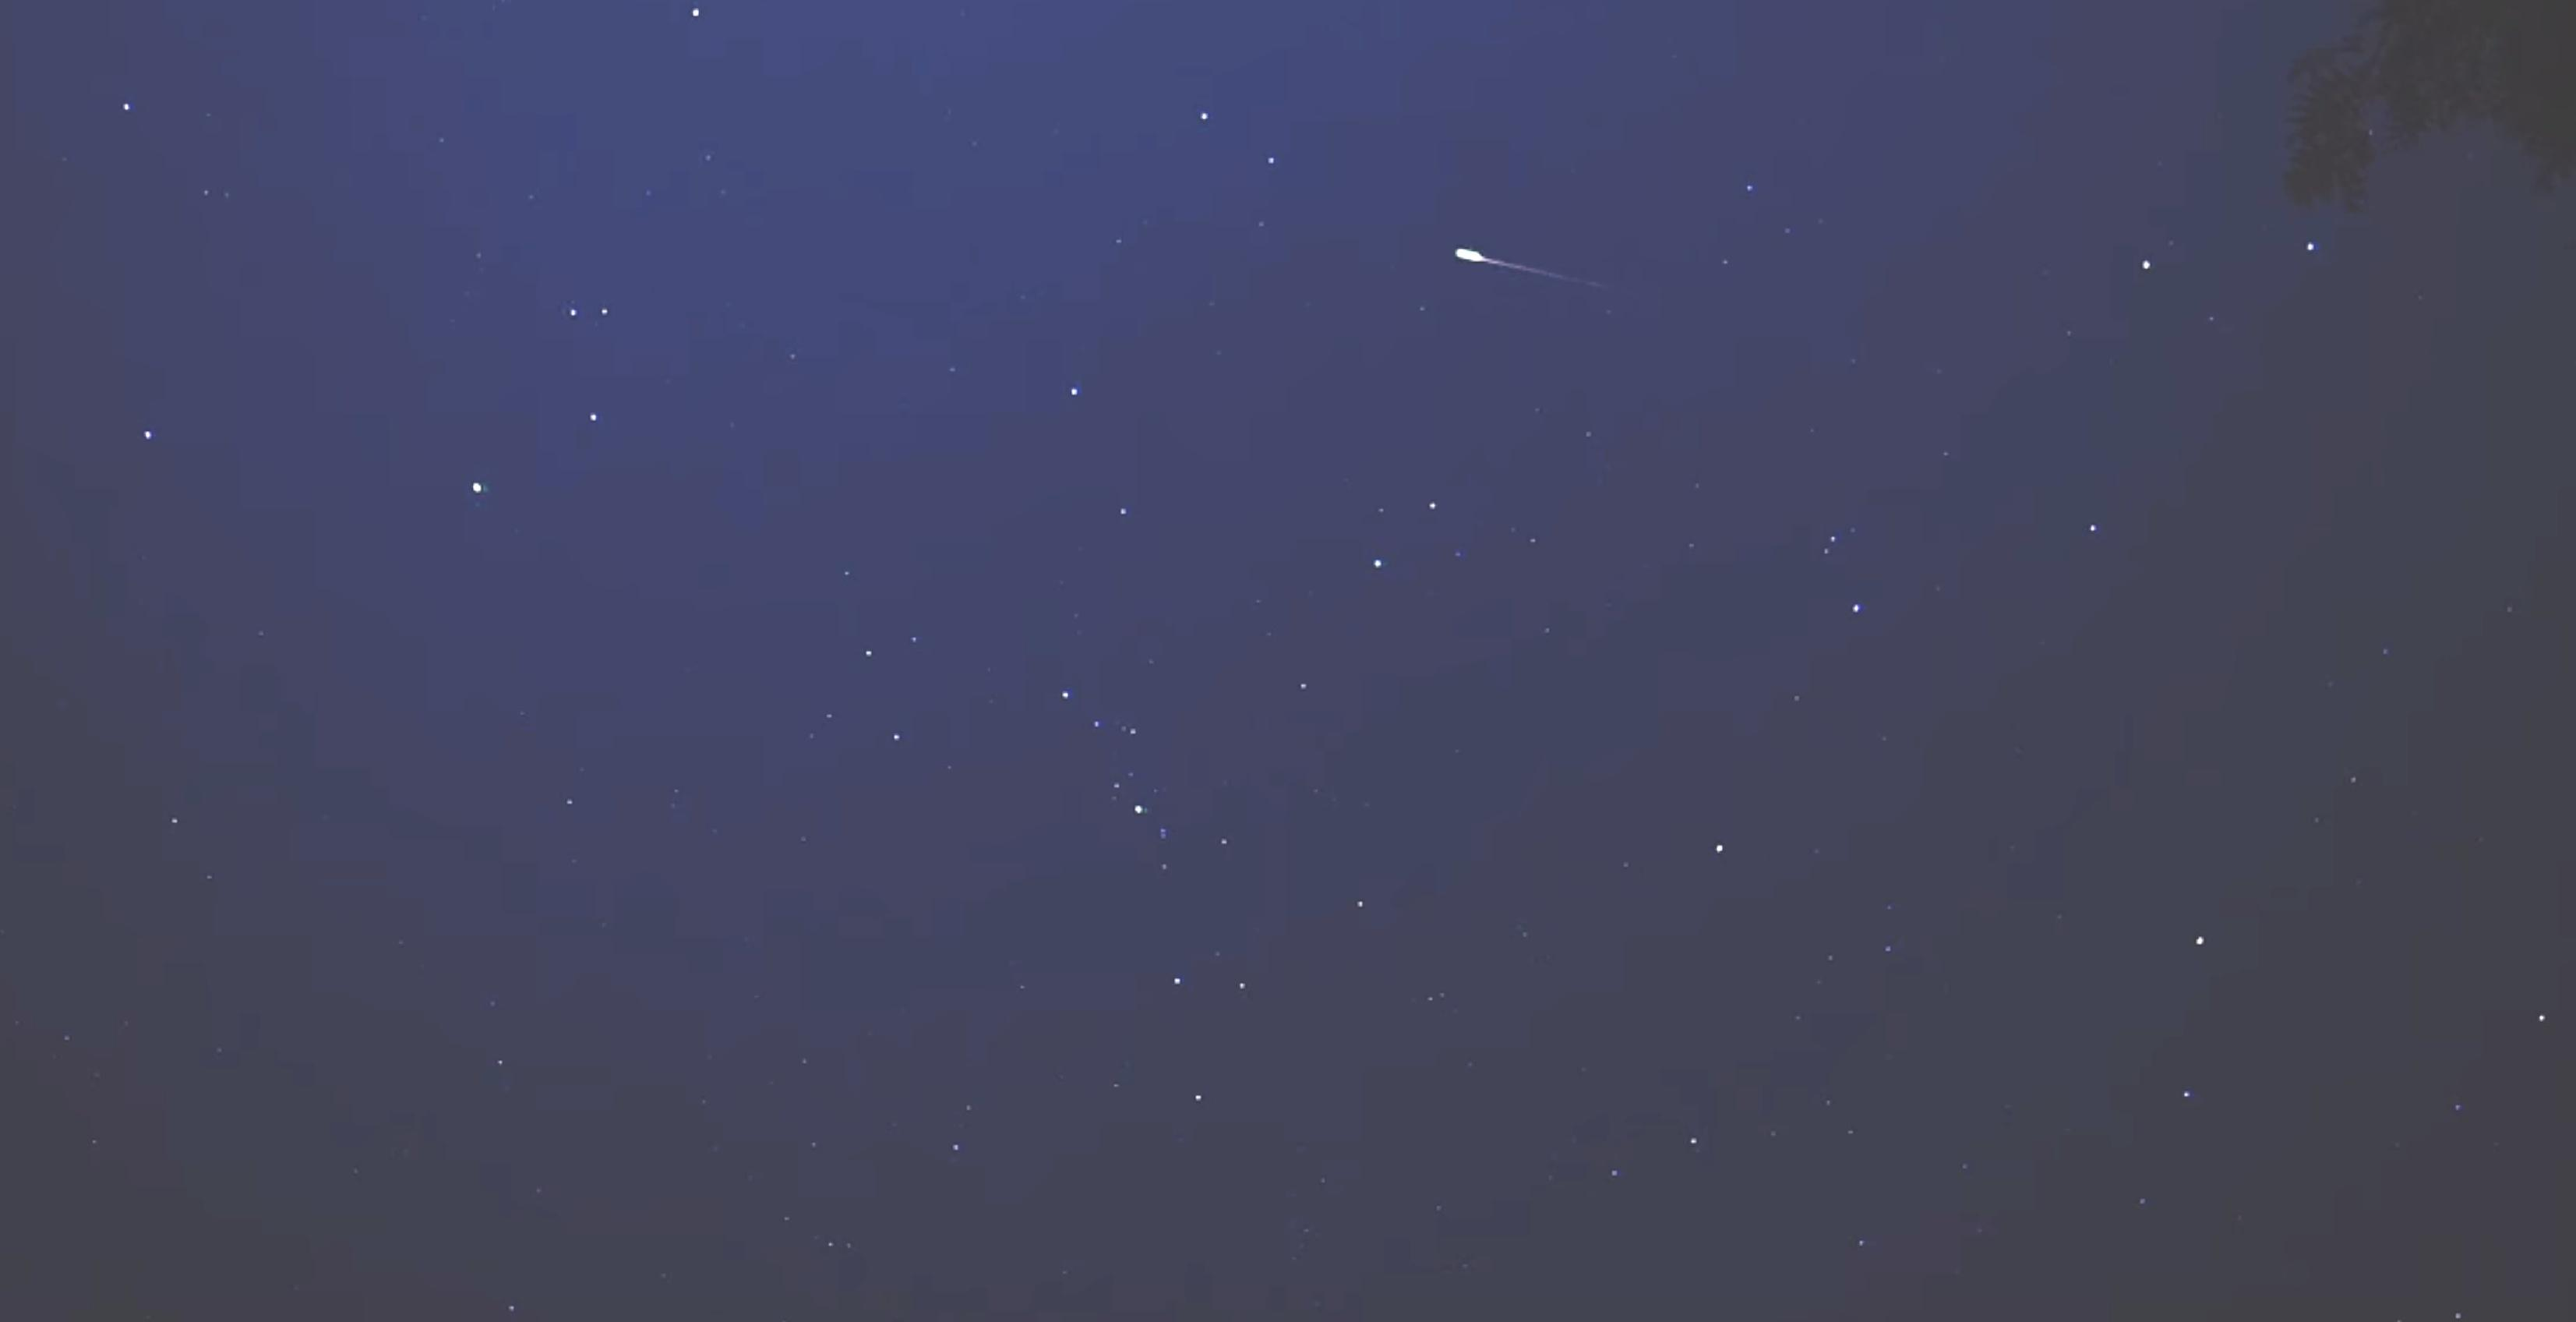meteorite: (1387, 234, 1670, 300)
